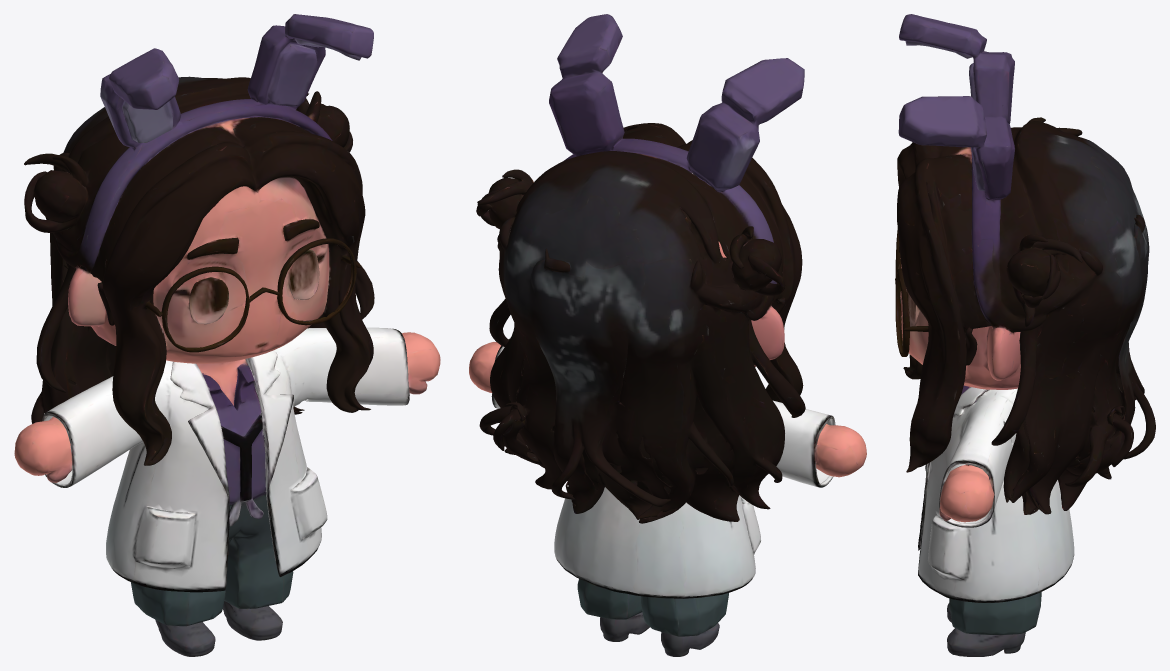
The model's file is tempImageYcOGO1.glb.
The picture shows the model from 3 angles, left to right: view 1: azimuth 30°, elevation 25°; view 2: azimuth 150°, elevation 25°; view 3: azimuth 270°, elevation 25°; orthographic projection. The views are drawn at different scales.
Parts seen in each view (by area): view 1: world; view 2: world; view 3: world.
Part boxes in pixels (<box>): world: <box>14,14,440,656</box>; world: <box>469,14,866,656</box>; world: <box>895,14,1155,656</box>.
Bounding box in the file's own units: 0.7144 × 1 × 0.4117.
1 material, 1 textured.
